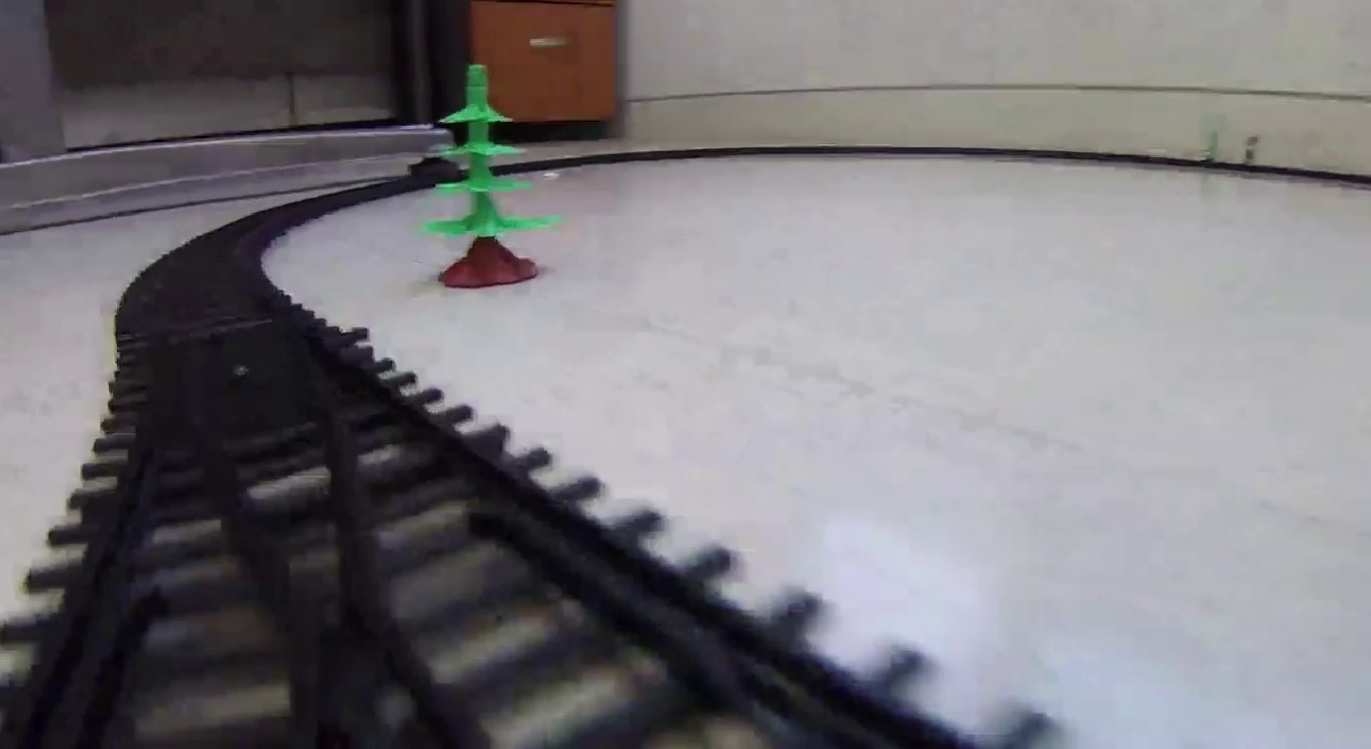tree: (421, 64, 559, 284)
